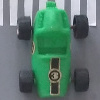carro: (18, 1, 88, 97)
